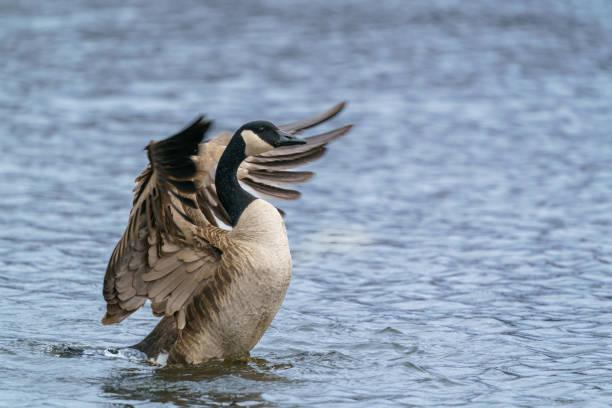Canadian-Goose: (98, 102, 350, 367)
